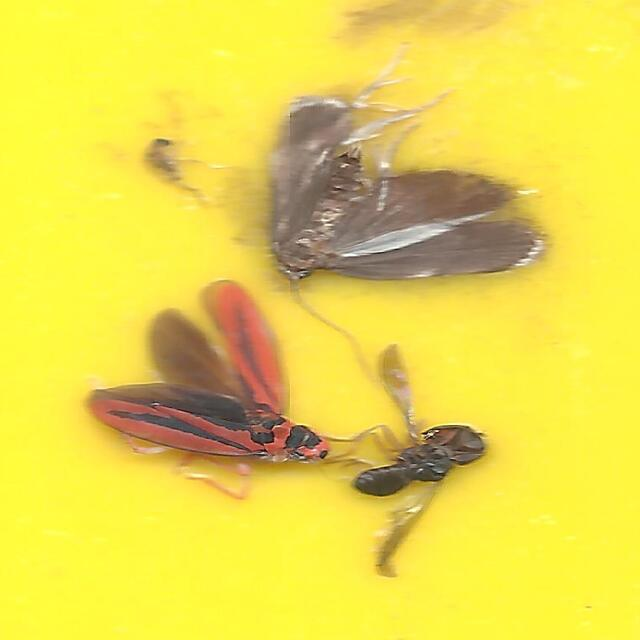Brachycera: (353, 345, 490, 580)
Hemiptera: (84, 288, 333, 488)
Lepidoptera: (247, 60, 556, 291)
